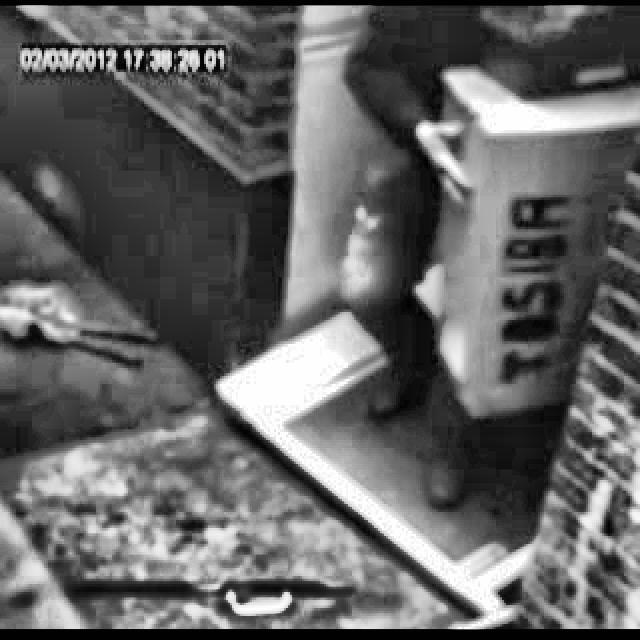burglary: (331, 6, 639, 516)
